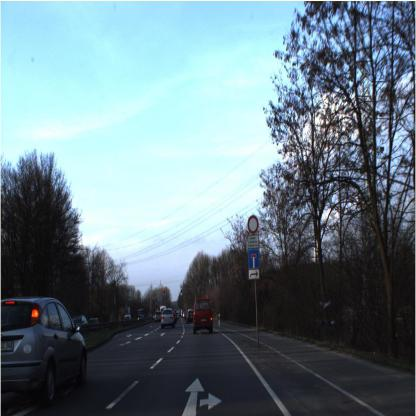prohibitory: (245, 213, 260, 234)
